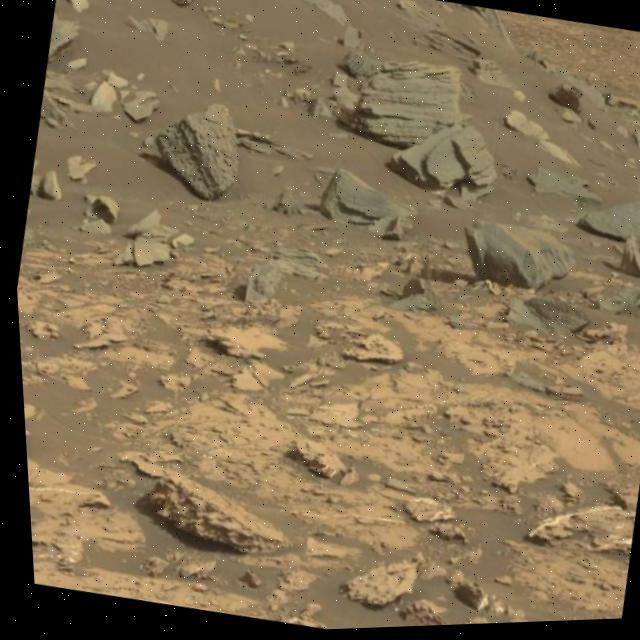mars-rocks: (350, 64, 460, 149), (387, 129, 495, 204), (154, 105, 236, 202), (463, 225, 572, 293), (317, 173, 414, 243), (549, 88, 582, 117)
